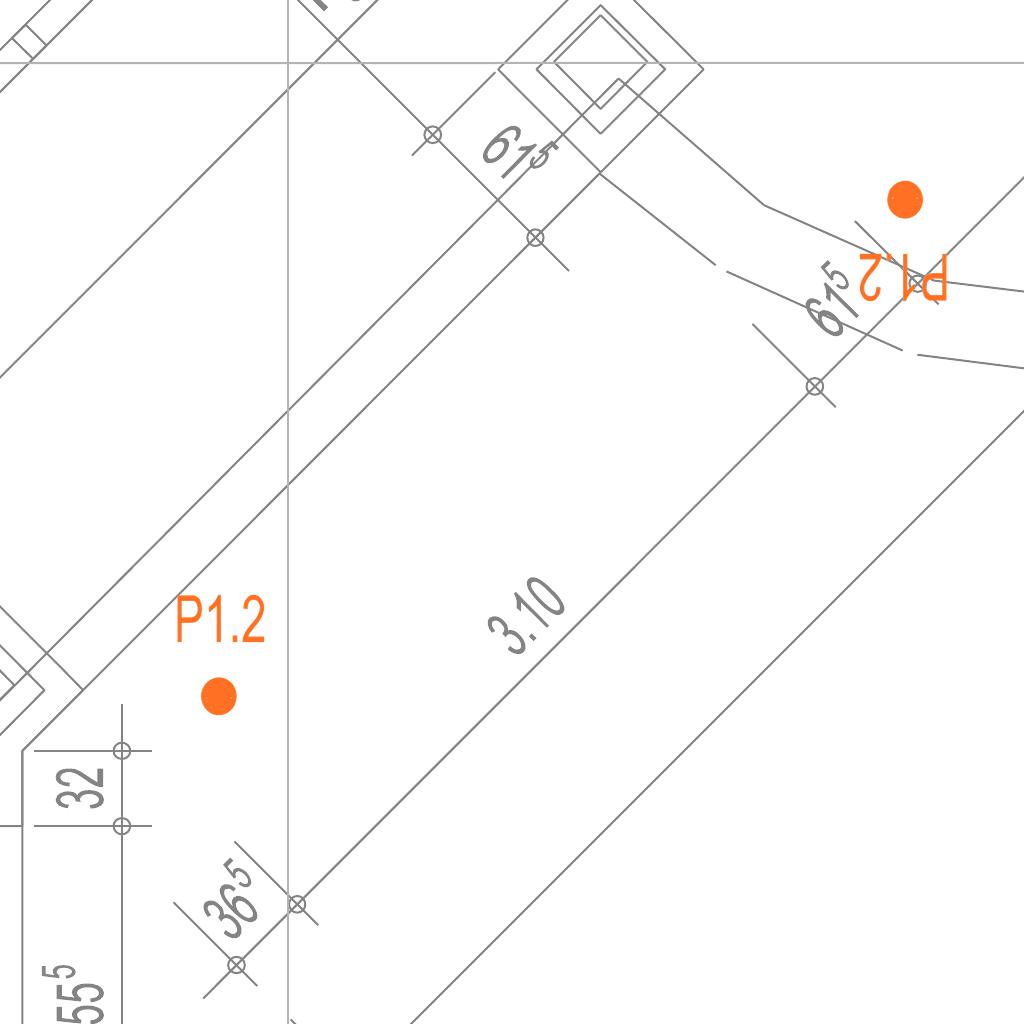Downlight_LED_Einbauleuchten_Flur: (174, 591, 267, 719), (857, 177, 950, 305)
